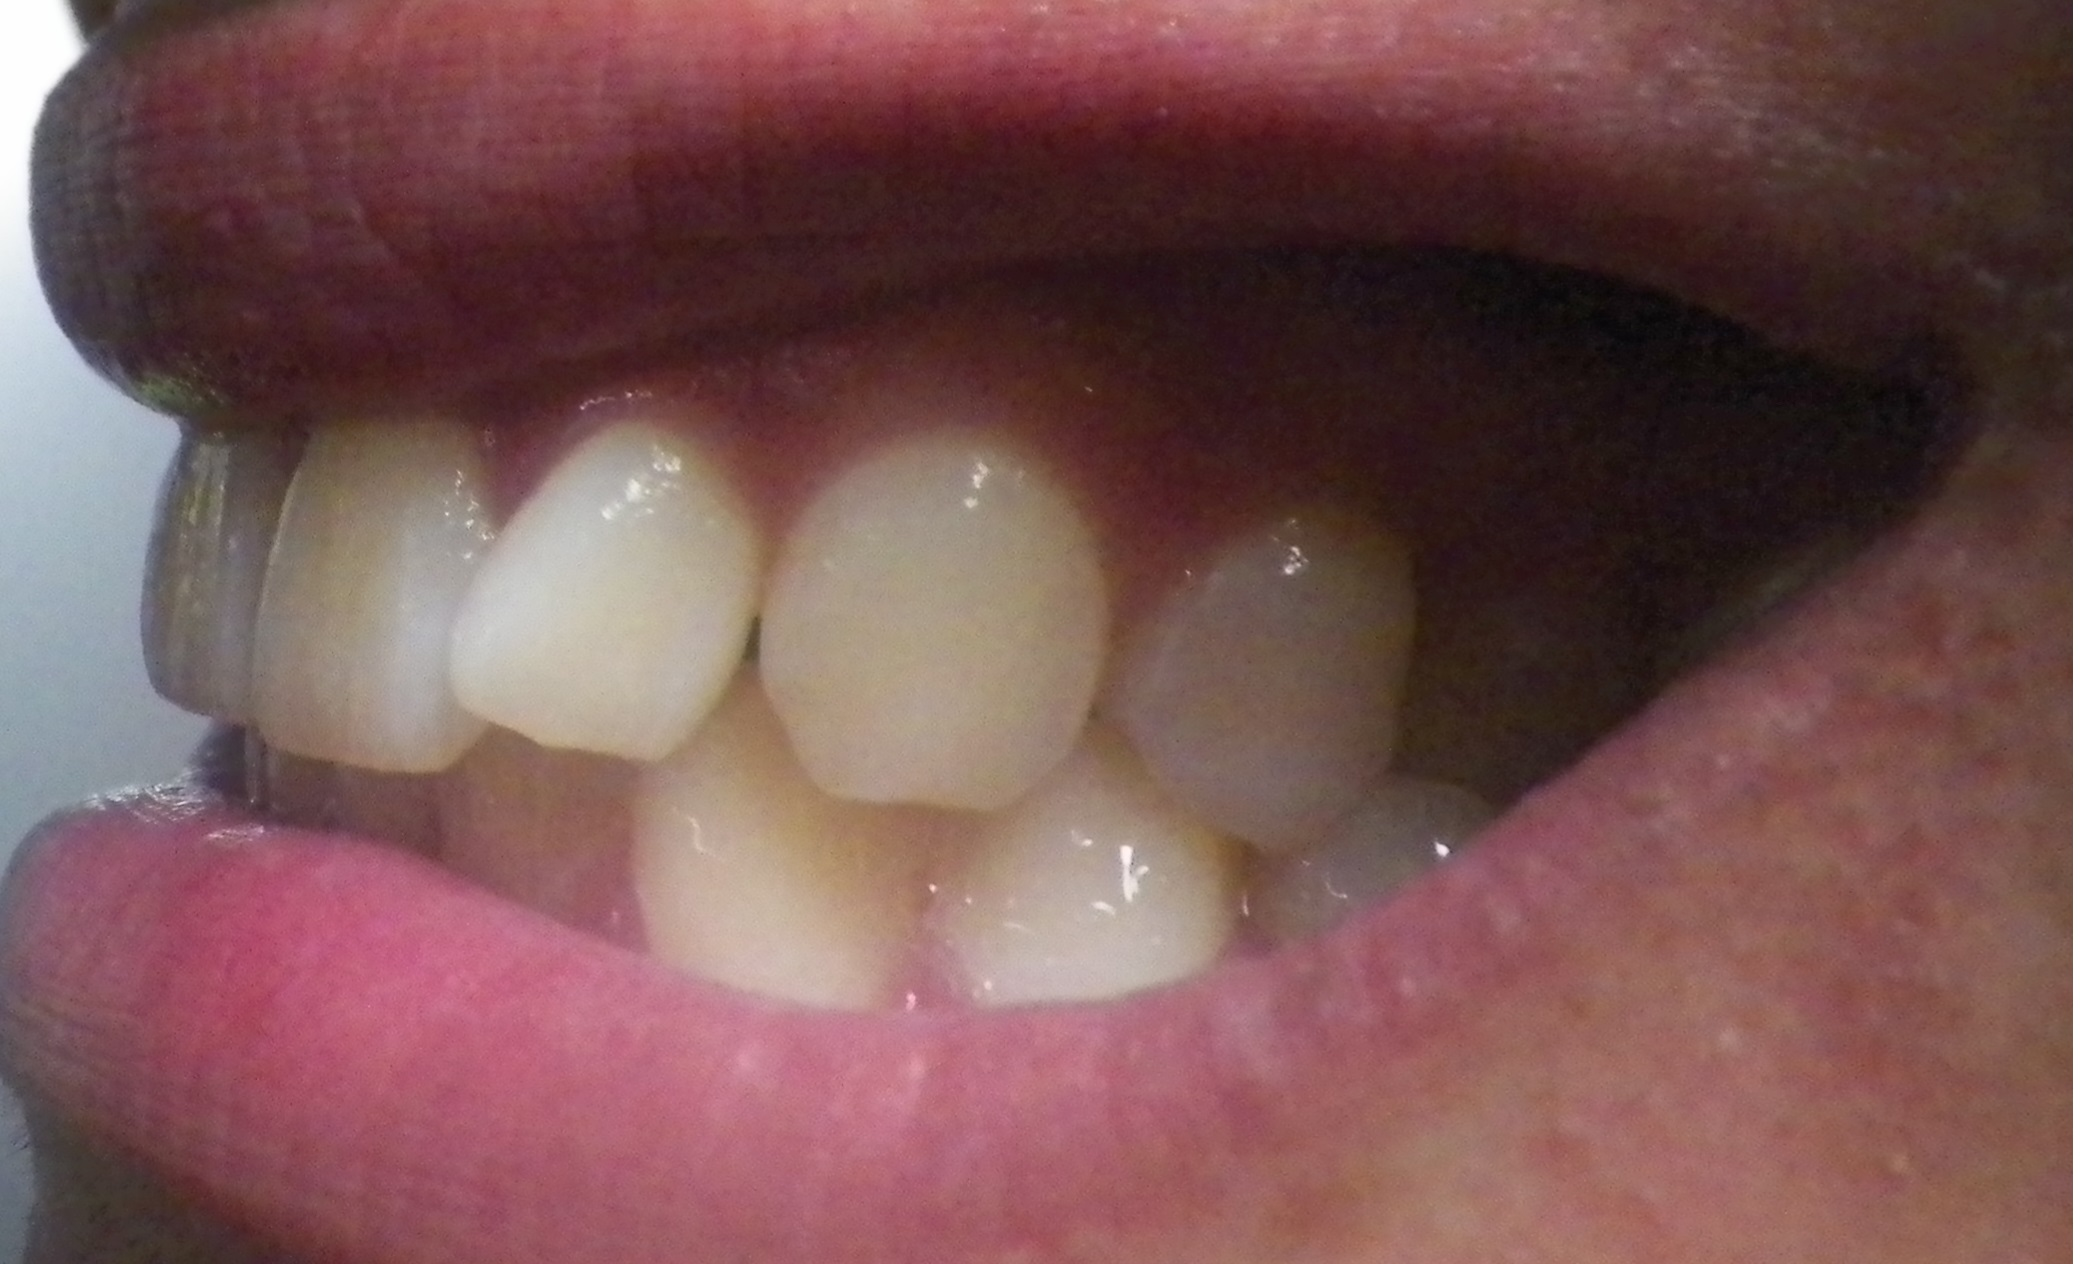boca: (129, 410, 1526, 1006)
